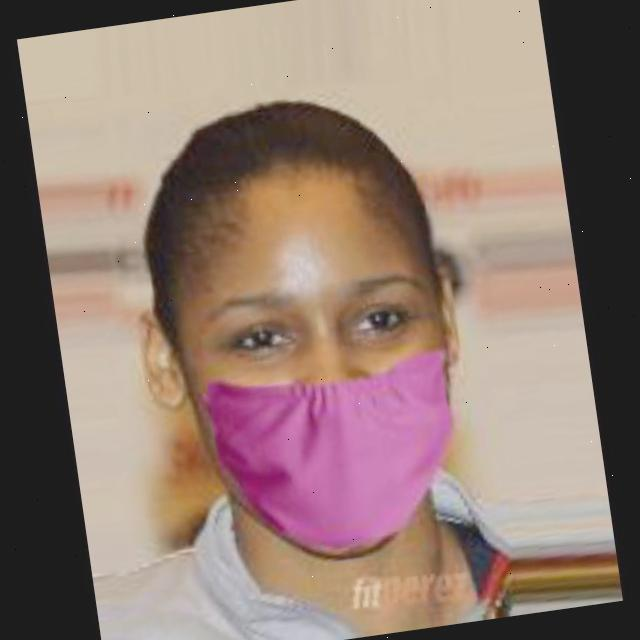suspicion: (99, 76, 495, 564)
